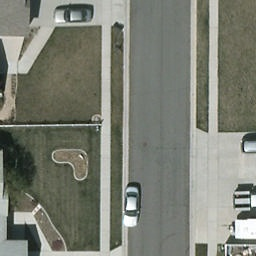car: (123, 185, 147, 229), (50, 6, 96, 24)
